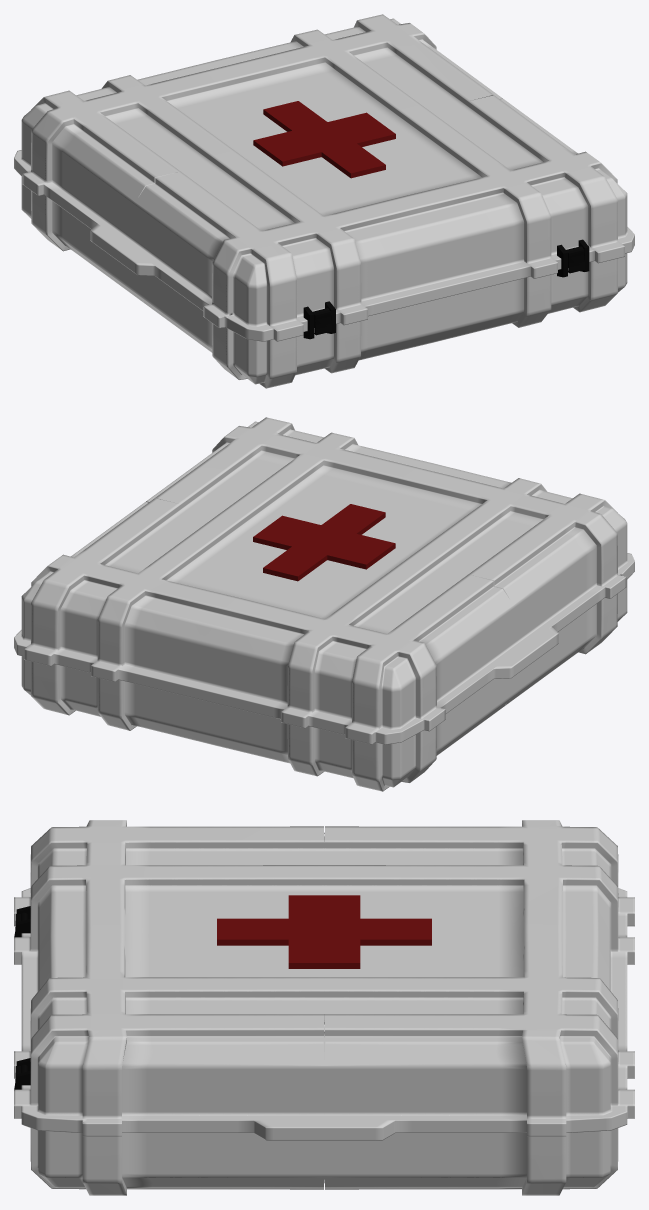
File: Medkit.fbx
3 renders of one model, top to bottom at view 1: azimuth 30°, elevation 25°; view 2: azimuth 150°, elevation 25°; view 3: azimuth 270°, elevation 25°, orthographic. The views are drawn at different scales.
Visible parts, largest first — view 1: Cylinder002, Box003, Box002; view 2: Cylinder002, Box003; view 3: Cylinder002, Box003, Box002.
Part boxes in pixels (x1,y1,x2,y2): Cylinder002: (14, 14, 634, 388); Box003: (253, 101, 395, 178); Box002: (303, 239, 589, 339); Cylinder002: (14, 417, 634, 791); Box003: (253, 504, 395, 581); Cylinder002: (14, 820, 634, 1195); Box003: (217, 895, 431, 968); Box002: (14, 906, 30, 1089).
Bounding box in the file's own units: 2.23 × 0.6581 × 2.32.
